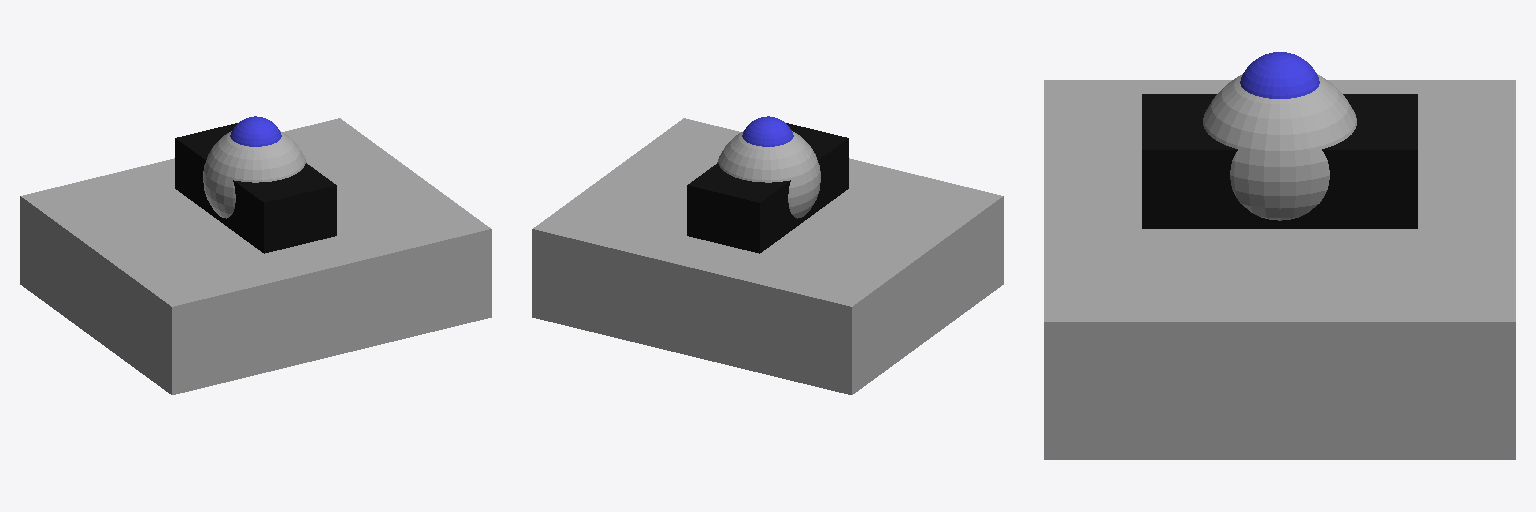
robot.urdf — evolved_robot:
<?xml version="1.0"?>
<robot name="evolved_robot">
  <material name="metal">
    <color rgba="0.7 0.7 0.7 1.0"/>
  </material>
  <material name="plastic">
    <color rgba="0.3 0.3 0.9 1.0"/>
  </material>
  <material name="rubber">
    <color rgba="0.1 0.1 0.1 1.0"/>
  </material>
  <material name="red">
    <color rgba="1.0 0.0 0.0 1.0"/>
  </material>
  <material name="wheel_material">
    <color rgba="0.2 0.2 0.2 1.0"/>
  </material>
  <link name="base_link">
    <visual>
      <geometry><box size="0.48463089593794784 0.39802988926891547 0.12844443569241548"/></geometry>
      <material name="metal"/>
    </visual>
    <collision>
      <geometry><box size="0.48463089593794784 0.39802988926891547 0.12844443569241548"/></geometry>
    </collision>
    <inertial>
      <mass value="5.0"/>
      <inertia ixx="0.14577147150980682" ixy="0" ixz="0" 
               iyy="0.20947089863163423" iyz="0" 
               izz="0.3277457483742026"/>
    </inertial>
  </link>
  <link name="link1">
    <visual>
      <geometry><box size="0.1101125690481089 0.23272315737002336 0.1476159412566182"/></geometry>
      <material name="rubber"/>
    </visual>
    <collision>
      <geometry><box size="0.1101125690481089 0.23272315737002336 0.1476159412566182"/></geometry>
    </collision>
    <inertial>
      <mass value="0.5"/>
      <inertia ixx="0.006329211174112501" ixy="0" ixz="0" 
               iyy="0.002826270331287659" iyz="0" 
               izz="0.005523737153220601"/>
    </inertial>
  </link>
  <joint name="joint1" type="revolute">
    <parent link="base_link"/>
    <child link="link1"/>
    <origin xyz="0 0 0.06422221784620774" rpy="0 0 0"/>
    <axis xyz="0.602721975408925 0.68272468513079 0.41305353729538125"/>
    <dynamics damping="0.7284404466419445" friction="0.1"/>
    <limit lower="-0.3193814591041824" upper="0.8056372410217912" effort="100" velocity="100"/>
  </joint>
  <link name="link2">
    <visual>
      <geometry><sphere radius="0.06987331006299499"/></geometry>
      <material name="metal"/>
    </visual>
    <collision>
      <geometry><sphere radius="0.06987331006299499"/></geometry>
    </collision>
    <inertial>
      <mass value="0.5"/>
      <inertia ixx="0.0019529117836637748" ixy="0" ixz="0" 
               iyy="0.0019529117836637748" iyz="0" 
               izz="0.0019529117836637748"/>
    </inertial>
  </link>
  <joint name="joint2" type="revolute">
    <parent link="base_link"/>
    <child link="link2"/>
    <origin xyz="0 0 0.11422221784620774" rpy="0 0 0"/>
    <axis xyz="-0.79817373305607 -0.6023525537439858 -0.009491725735401083"/>
    <dynamics damping="0.9816957550383011" friction="0.1"/>
    <limit lower="-1.885585364721661" upper="0.4876155156080496" effort="100" velocity="100"/>
  </joint>
  <link name="link3">
    <visual>
      <geometry><sphere radius="0.03558117225608424"/></geometry>
      <material name="plastic"/>
    </visual>
    <collision>
      <geometry><sphere radius="0.03558117225608424"/></geometry>
    </collision>
    <inertial>
      <mass value="0.5"/>
      <inertia ixx="0.0005064079276468554" ixy="0" ixz="0" 
               iyy="0.0005064079276468554" iyz="0" 
               izz="0.0005064079276468554"/>
    </inertial>
  </link>
  <joint name="joint3" type="fixed">
    <parent link="base_link"/>
    <child link="link3"/>
    <origin xyz="0 0 0.16422221784620775" rpy="0 0 0"/>
    <axis xyz="0.23467953800141797 0.5854908550398261 0.7759677655084483"/>
    <dynamics damping="0.6136898146820715" friction="0.1"/>
  </joint>
</robot>

--- Facts derived from the render (not from the file) ---
Views: 3 orthographic renders of the robot side by side, from view 1: azimuth 30°, elevation 25°; view 2: azimuth 150°, elevation 25°; view 3: azimuth 270°, elevation 25°.
Model evolved_robot with 4 links and 3 joints (2 revolute, 1 fixed), rooted at base_link, posed every joint at zero.
Visible links, largest first — view 1: base_link, link1, link2, link3; view 2: base_link, link1, link2, link3; view 3: base_link, link1, link2, link3.
Link boxes in pixels (x1=…): base_link: x1=20, y1=118, x2=491, y2=394; link1: x1=175, y1=123, x2=336, y2=253; link2: x1=203, y1=131, x2=306, y2=218; link3: x1=230, y1=116, x2=281, y2=146; base_link: x1=532, y1=118, x2=1003, y2=394; link1: x1=687, y1=123, x2=848, y2=253; link2: x1=717, y1=131, x2=820, y2=218; link3: x1=742, y1=116, x2=793, y2=146; base_link: x1=1044, y1=80, x2=1515, y2=459; link1: x1=1142, y1=94, x2=1417, y2=228; link2: x1=1203, y1=74, x2=1356, y2=220; link3: x1=1240, y1=52, x2=1319, y2=98.
Size in the robot's own frame: 0.4846 by 0.398 by 0.264 metres.
Geometry: primitives only (box / cylinder / sphere), no mesh files.